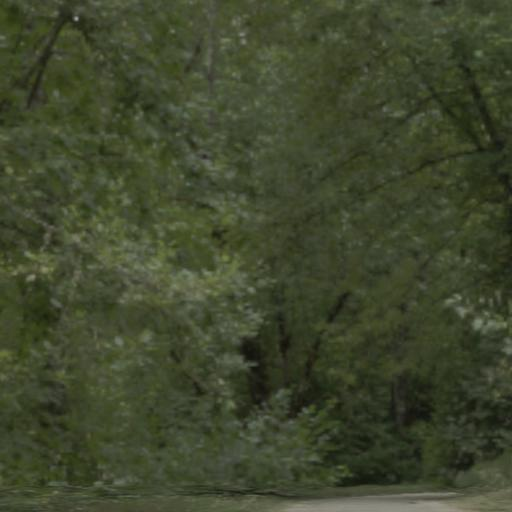nothing: (5, 0, 509, 512)
